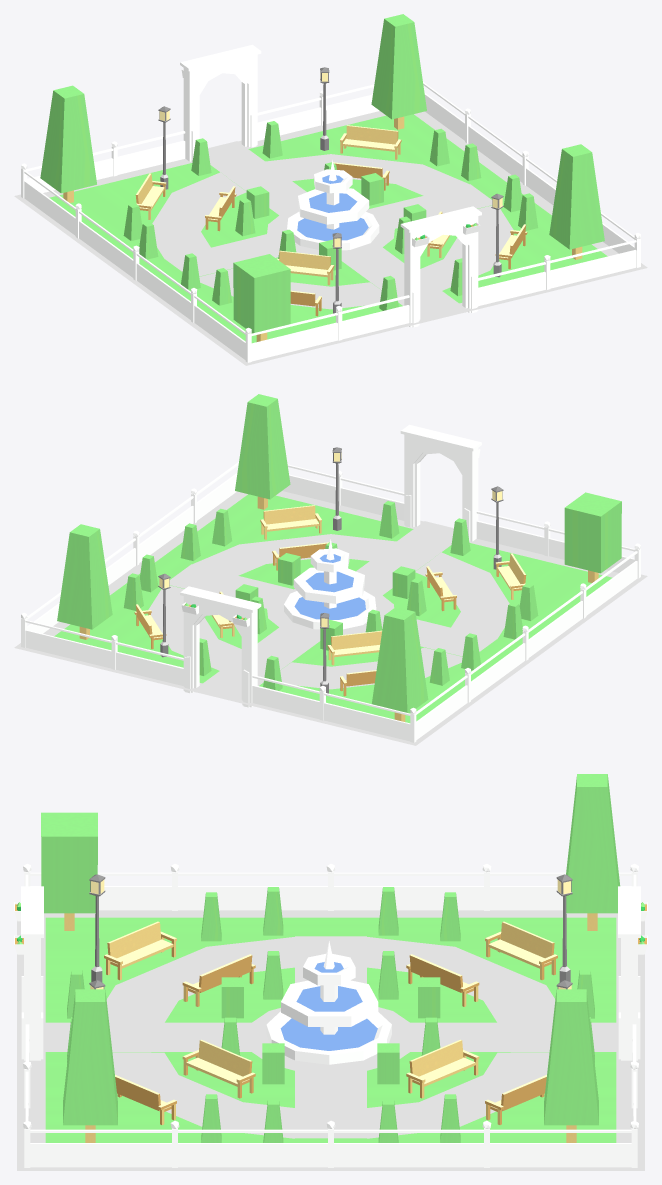
File: park.002.glb
The picture shows the model from 3 angles, top to bottom: view 1: azimuth 30°, elevation 25°; view 2: azimuth 150°, elevation 25°; view 3: azimuth 270°, elevation 25°; orthographic projection. The views are drawn at different scales.
Visible parts, largest first — view 1: park.002(Clone); view 2: park.002(Clone); view 3: park.002(Clone).
Part boxes in pixels (left/top/right/bottom): park.002(Clone): left=14, top=14, right=647, bottom=365; park.002(Clone): left=14, top=394, right=647, bottom=745; park.002(Clone): left=14, top=774, right=647, bottom=1170.
Bounding box in the file's own units: 16 × 4.85 × 16.16.
1 material, 1 textured.
